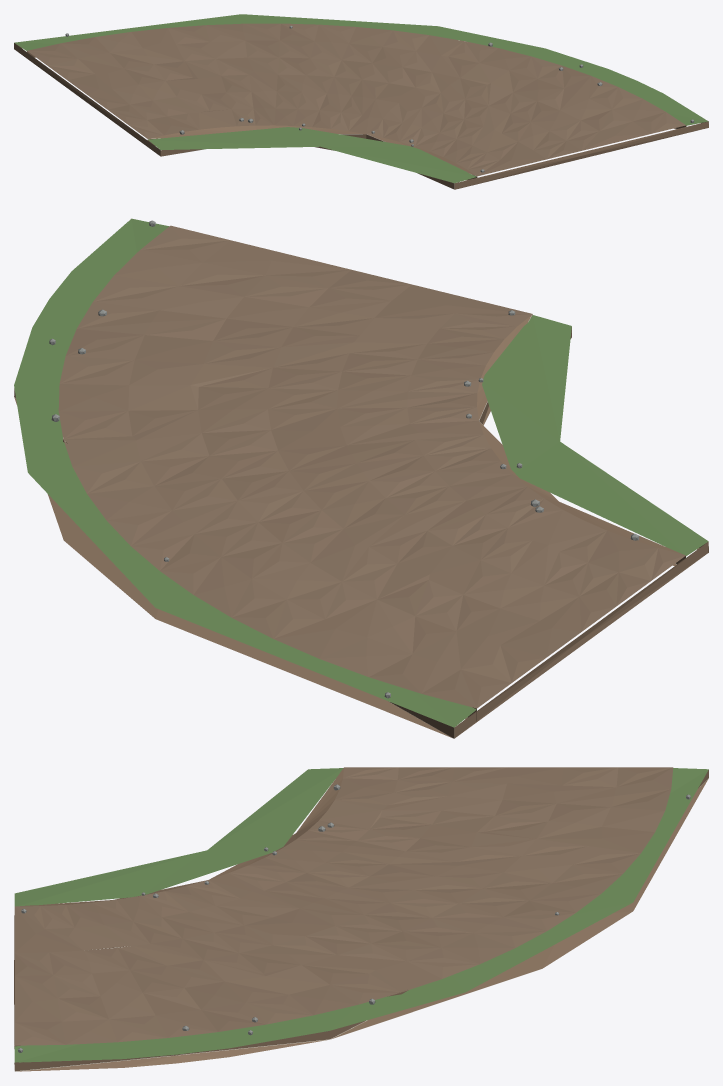
The model's file is dirt_curve.glb.
The picture shows the model from 3 angles, top to bottom: view 1: azimuth 30°, elevation 25°; view 2: azimuth 150°, elevation 25°; view 3: azimuth 270°, elevation 25°; orthographic projection. The views are drawn at different scales.
Visible parts, largest first — view 1: Body.007; view 2: Body.007; view 3: Body.007.
Part boxes in pixels (box(x1,y1,x2,y2)): Body.007: box(14, 14, 708, 189); Body.007: box(14, 218, 708, 738); Body.007: box(14, 767, 708, 1071).
Size of the model in its own units: 12.65 by 0.3123 by 12.65.
